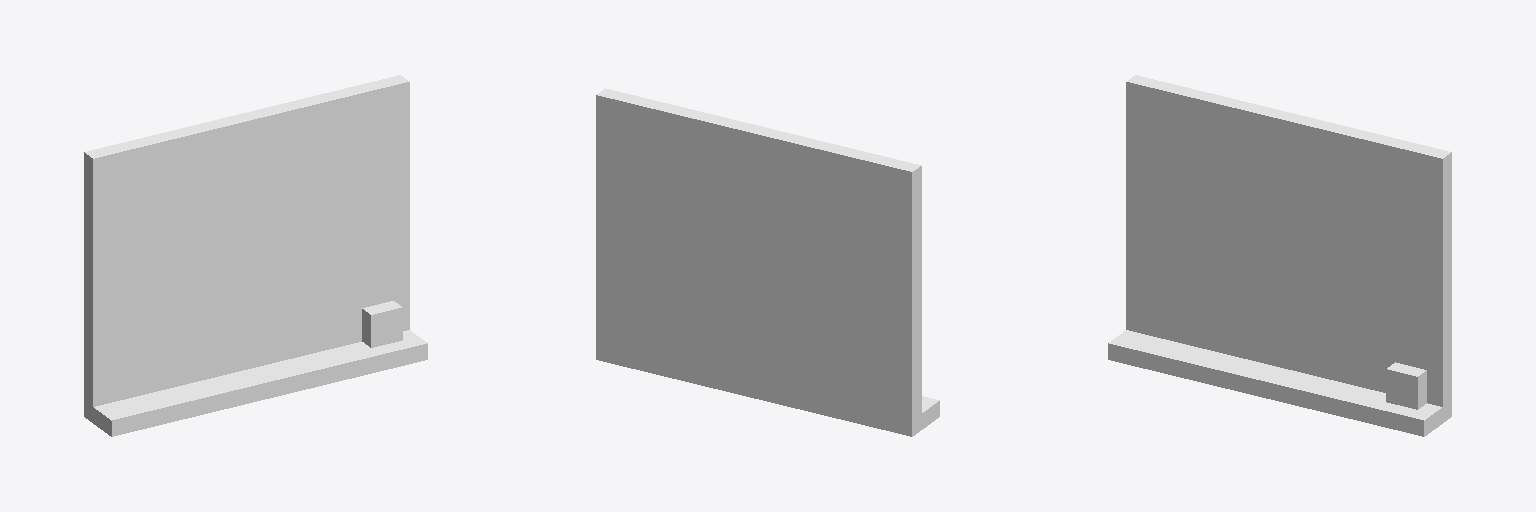
The model's file is whiteborad.vox.obj.
3 views of the same model, side by side, from view 1: azimuth 30°, elevation 25°; view 2: azimuth 150°, elevation 25°; view 3: azimuth 330°, elevation 25° (orthographic).
Visible parts, largest first — view 1: object 1; view 2: object 1; view 3: object 1.
Boxes of the visible parts, x1,y1,x2,y2 form: object 1: [84, 75, 427, 436]; object 1: [596, 88, 939, 436]; object 1: [1108, 75, 1451, 436].
Size of the model in its own units: 2 by 1.6 by 0.3.